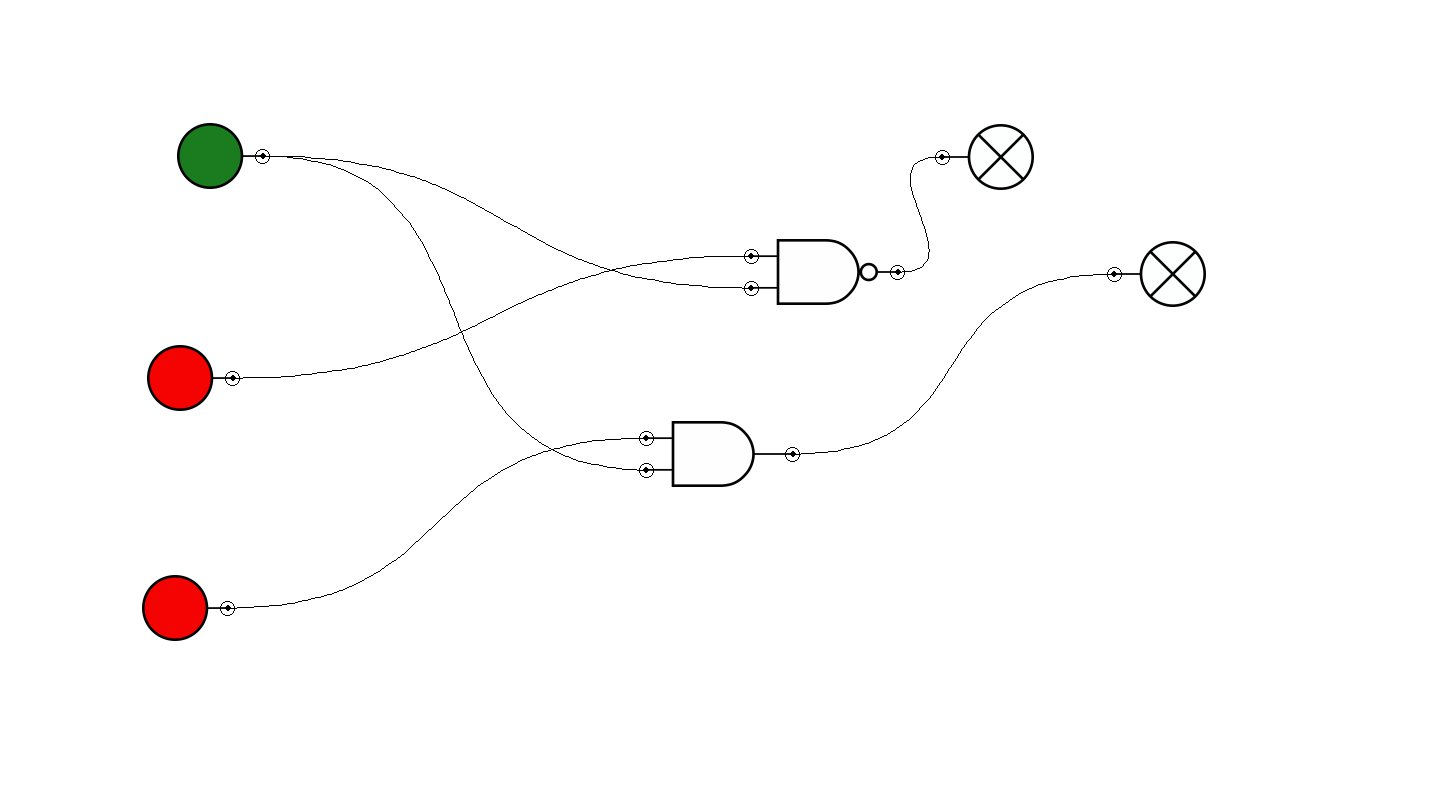and: (639, 421, 800, 487)
bulb: (935, 124, 1034, 190), (1107, 241, 1206, 307)
nand: (744, 239, 905, 305)
switch_False: (142, 575, 235, 641), (147, 345, 240, 411)
switch_True: (177, 123, 270, 189)
